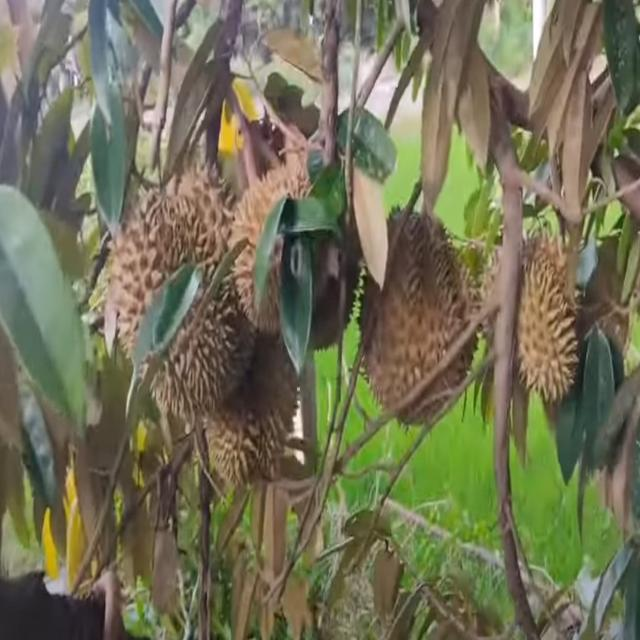mature: (101, 169, 260, 412), (357, 203, 480, 430), (236, 145, 361, 348), (502, 223, 580, 410)
